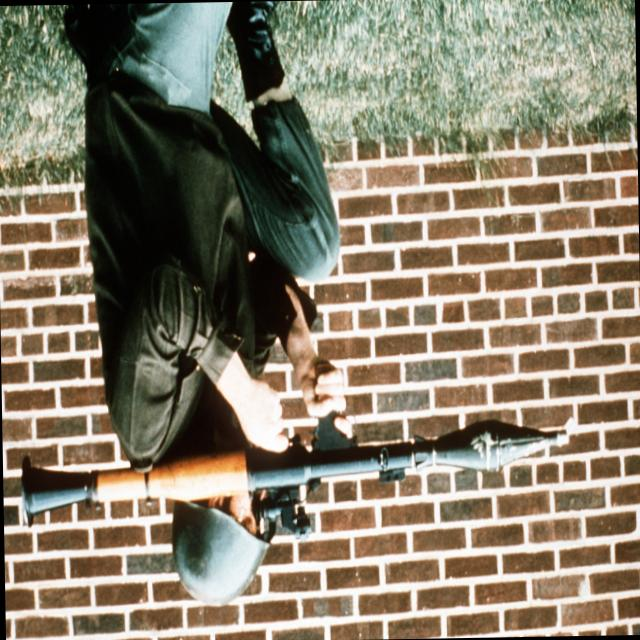Gun: (5, 349, 582, 564)
